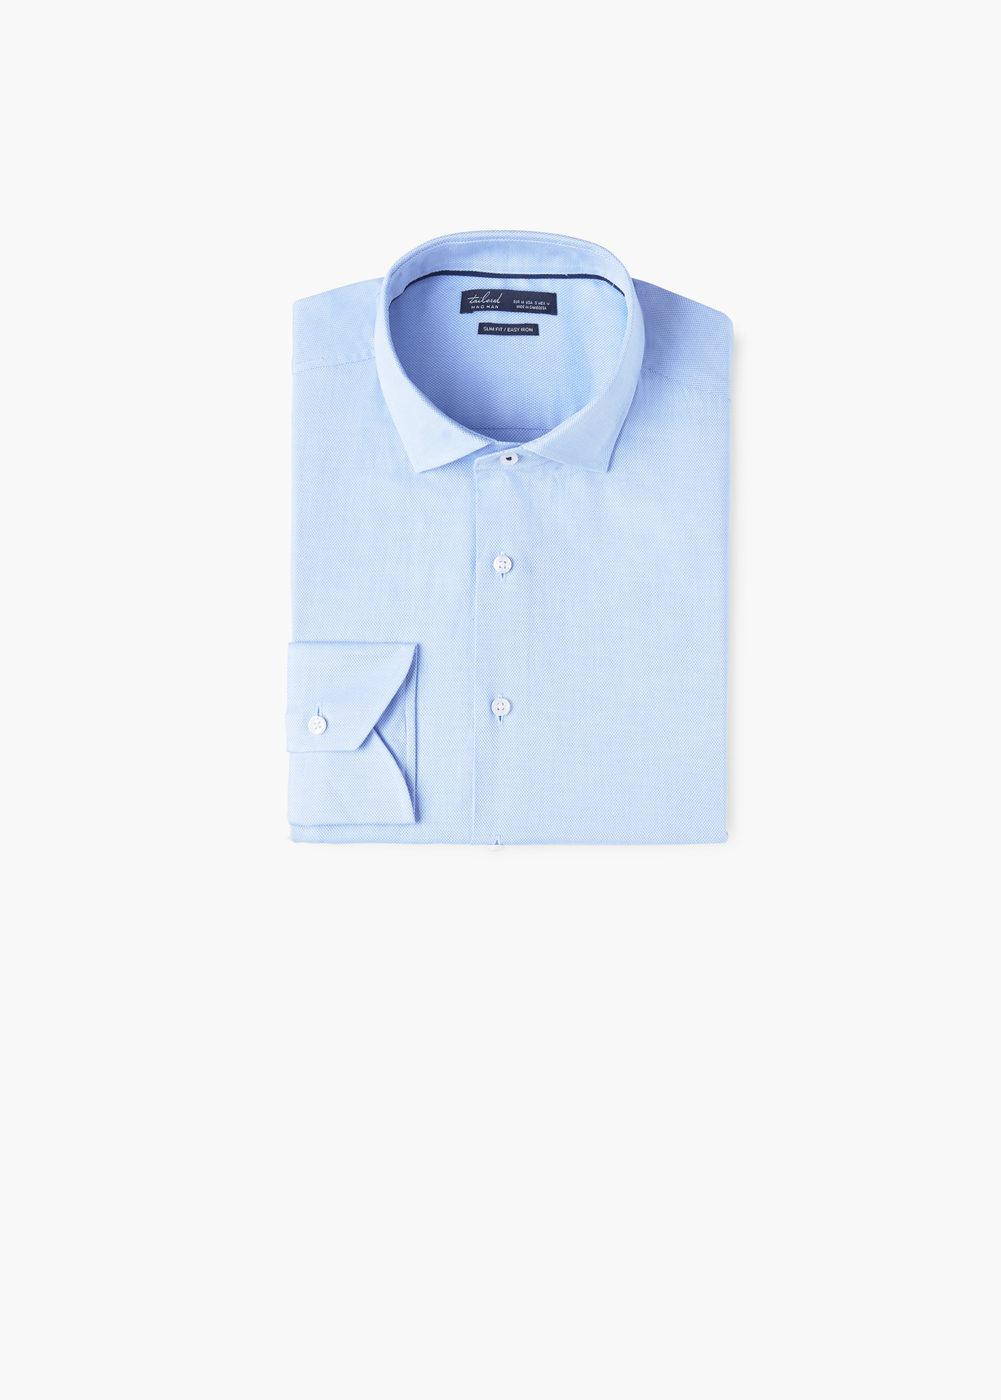teeshirt: (257, 225, 744, 867)
